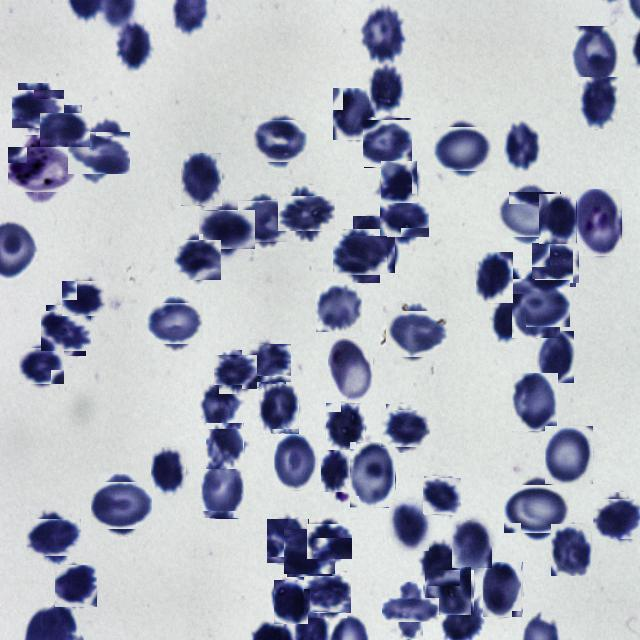red blood cell: (506, 274, 566, 332), (508, 480, 566, 538), (350, 442, 396, 508), (502, 187, 556, 242), (390, 306, 444, 361), (94, 478, 148, 532), (545, 426, 594, 485), (328, 338, 373, 401), (72, 126, 126, 178), (572, 26, 618, 86), (512, 373, 558, 432), (357, 8, 405, 61), (274, 434, 318, 491), (438, 124, 488, 174), (241, 197, 290, 246), (256, 116, 304, 166), (353, 216, 395, 273), (150, 300, 199, 348), (202, 463, 244, 519), (316, 281, 362, 332), (364, 119, 412, 167), (336, 232, 384, 280), (286, 527, 334, 575), (203, 206, 251, 253), (282, 190, 330, 237), (482, 562, 522, 618), (333, 88, 375, 141), (181, 153, 222, 206), (30, 514, 76, 561), (504, 119, 543, 173), (551, 524, 591, 576), (427, 568, 472, 614), (15, 86, 60, 132), (596, 496, 640, 543), (114, 19, 153, 72), (389, 500, 429, 551), (326, 402, 366, 452), (259, 384, 299, 434), (44, 308, 88, 353), (580, 77, 618, 129), (539, 194, 577, 245), (244, 342, 288, 386), (534, 241, 578, 285), (176, 238, 220, 282), (267, 518, 309, 564), (452, 520, 492, 568), (383, 407, 427, 450), (199, 385, 242, 429), (476, 252, 513, 303), (538, 331, 574, 383), (369, 62, 403, 117), (383, 198, 426, 241), (306, 573, 348, 616), (420, 541, 460, 586), (206, 423, 244, 470), (54, 566, 96, 608), (44, 109, 86, 151), (151, 447, 186, 496), (390, 590, 431, 631), (308, 522, 349, 562), (22, 346, 62, 386), (64, 278, 104, 318), (494, 294, 526, 344), (217, 352, 256, 392), (379, 162, 418, 202), (274, 580, 308, 624), (424, 476, 461, 514), (321, 450, 351, 493)
ring: (575, 189, 622, 256)
trophozoite: (12, 141, 70, 198)
